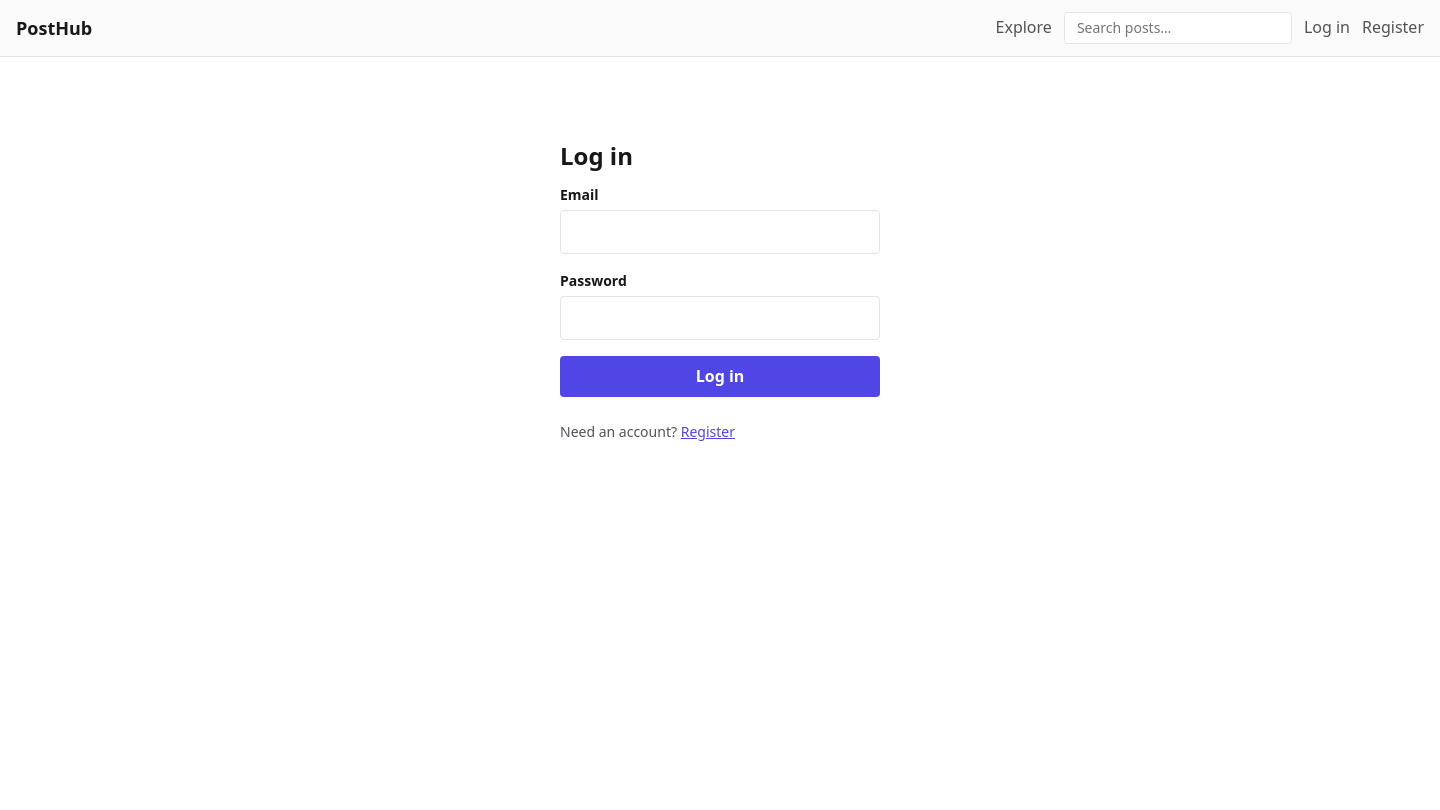
Scenario: auth flows › logs in from a guarded screen and returns to it
The image size is (1440, 810).
Type "andres@example.com" into the field labelled "Email" at (720, 232), box [560,210,880,254]
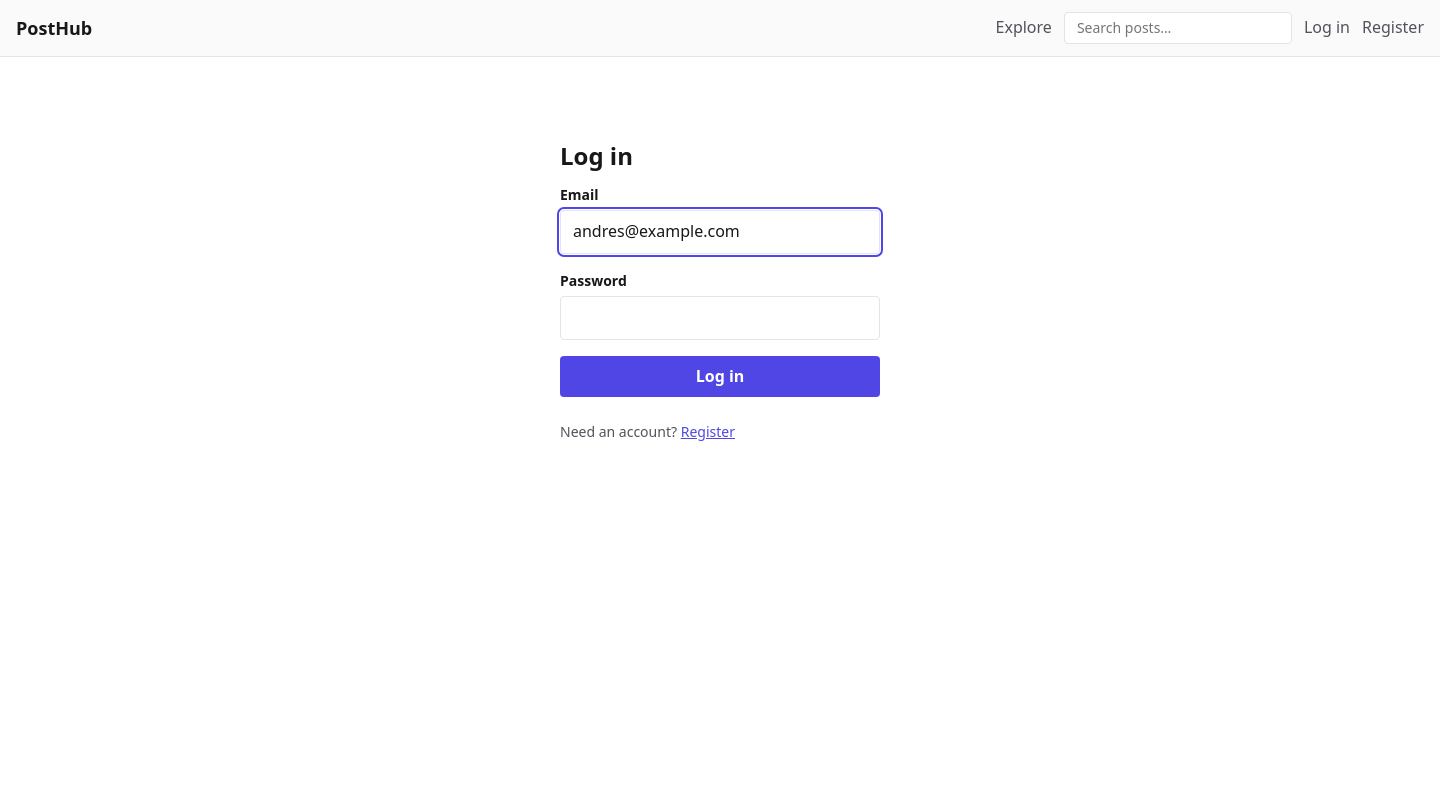
Type "password123" into the password field labelled "Password" at (720, 318), box [560,296,880,340]
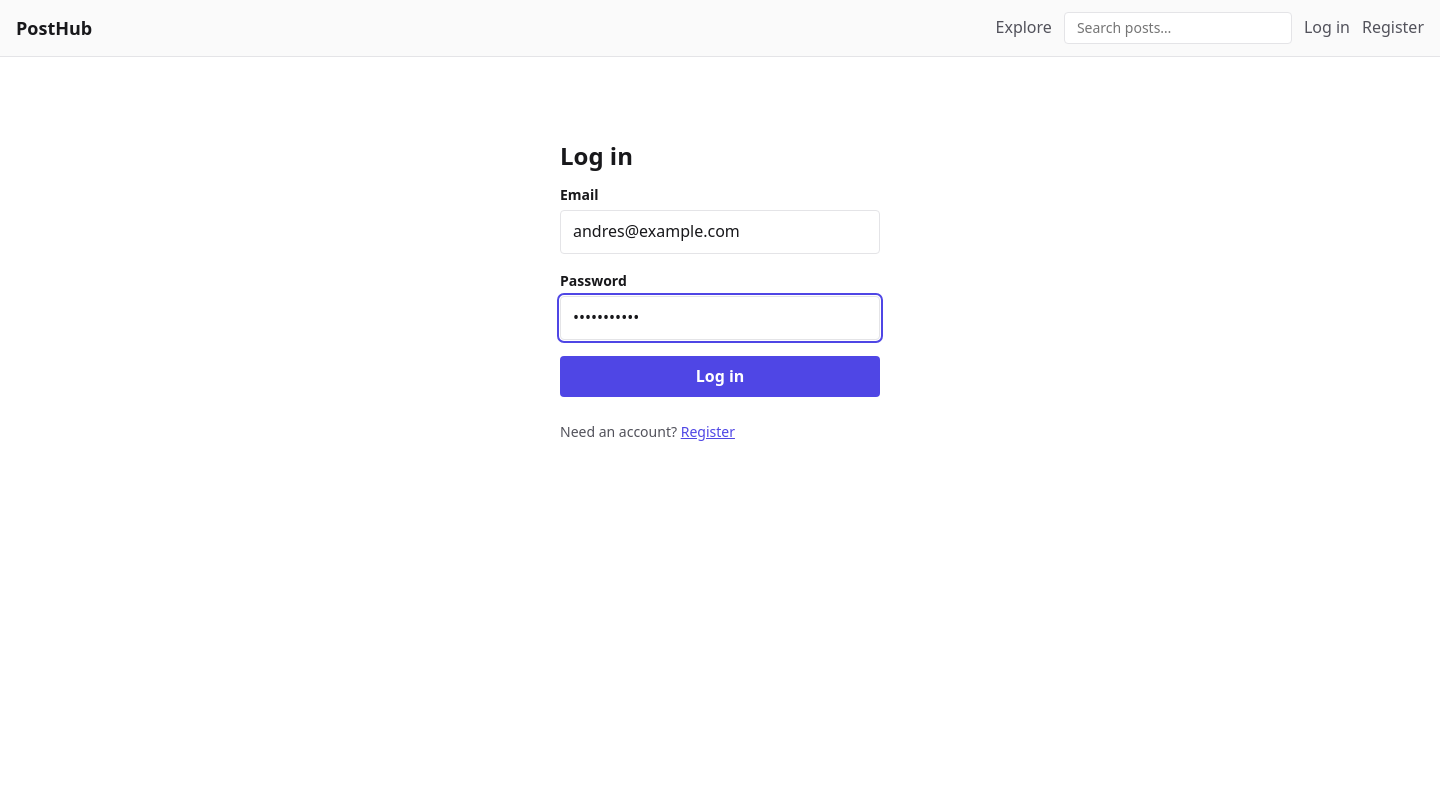
Click the button "Log in" at (720, 377), box [560,356,880,397]
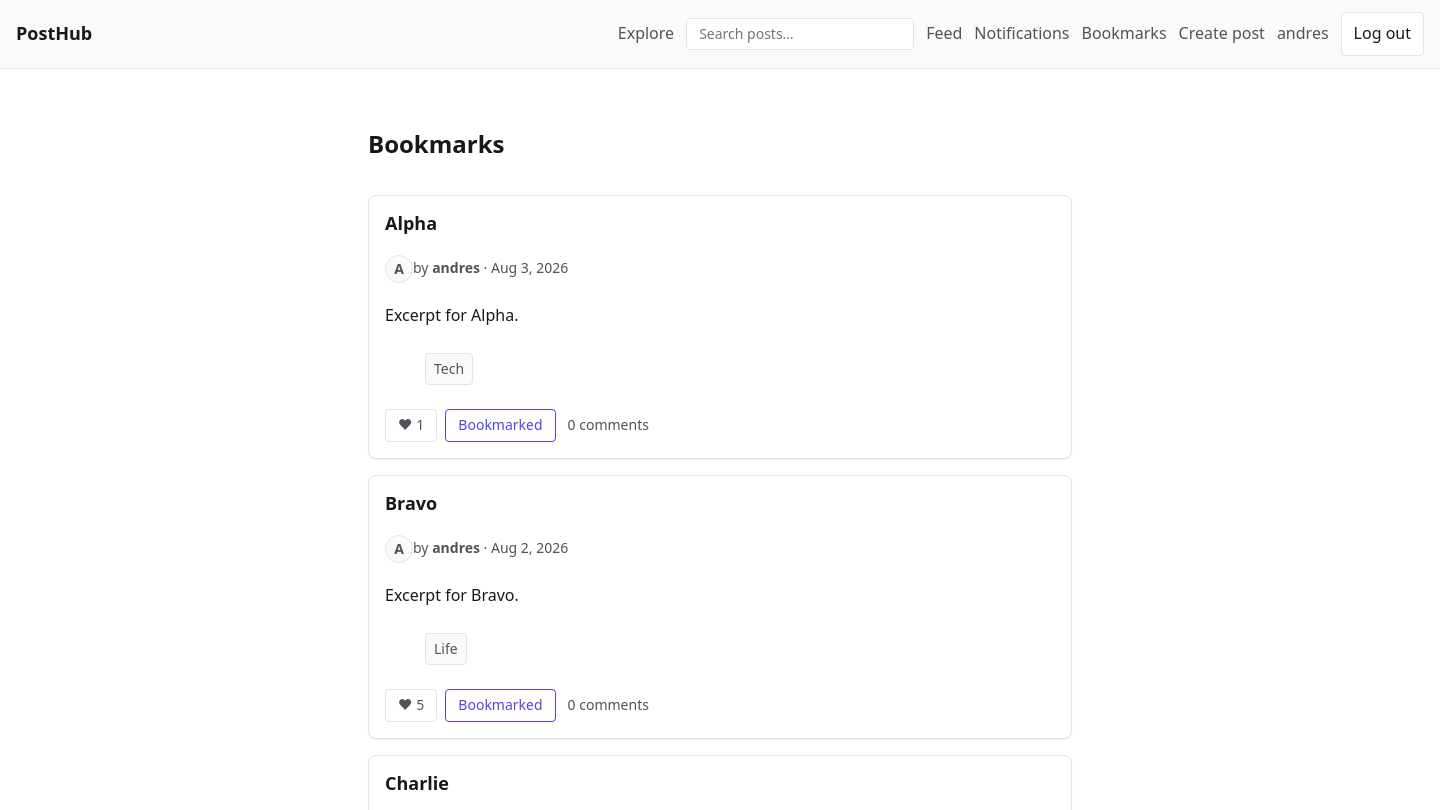
Check: the heading "Bookmarks" is shown, box [368,127,504,160]
Check: the link "Feed" is shown, box [926,21,962,47]
